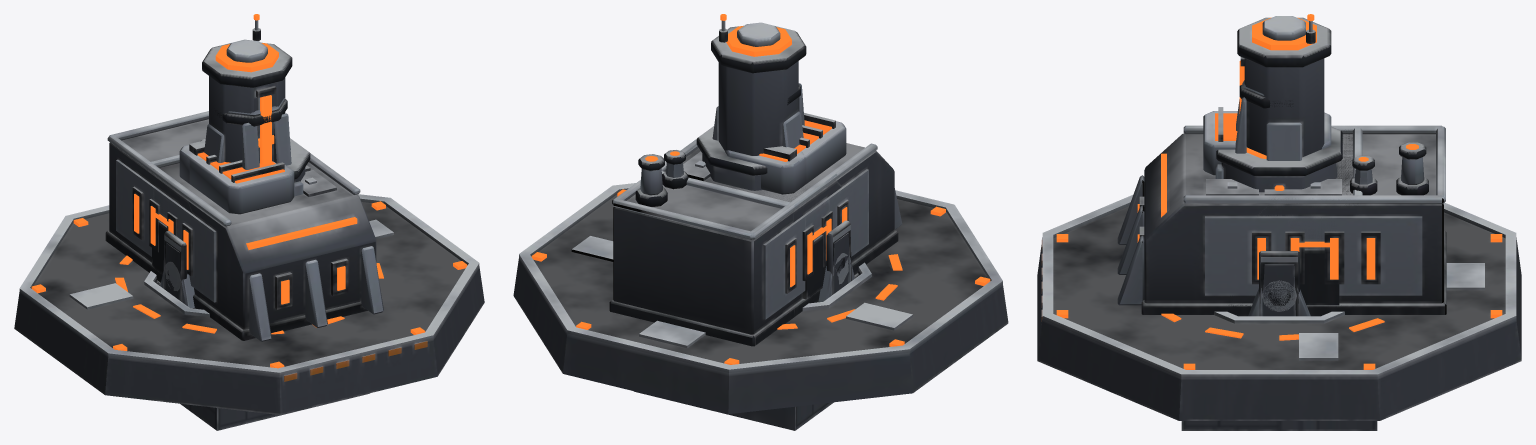
The model's file is facility-kit-v3.glb.
3 renders of one model, left to right at view 1: azimuth 30°, elevation 25°; view 2: azimuth 150°, elevation 25°; view 3: azimuth 270°, elevation 25°, orthographic. The views are drawn at different scales.
Visible parts, largest first — view 1: fk_vesper_pad, fk_vesper_hall_l, fk_vesper_reactor, fk_vesper_hall_s, fk_vesper_wall, fk_vesper_apron, fk_vesper_tower, fk_vesper_exchanger_l; view 2: fk_vesper_pad, fk_vesper_hall_l, fk_vesper_reactor, fk_vesper_hall_s, fk_vesper_exchanger_l, fk_vesper_wall, fk_vesper_apron; view 3: fk_vesper_pad, fk_vesper_hall_l, fk_vesper_reactor, fk_vesper_hall_s, fk_vesper_exchanger_l, fk_vesper_wall, fk_vesper_apron, fk_vesper_pipe, fk_vesper_tower.
Boxes of the visible parts, bbox=[...] form: fk_vesper_pad: bbox=[14, 194, 484, 414]; fk_vesper_hall_l: bbox=[105, 111, 383, 341]; fk_vesper_reactor: bbox=[202, 14, 292, 169]; fk_vesper_hall_s: bbox=[145, 140, 315, 309]; fk_vesper_wall: bbox=[160, 231, 195, 308]; fk_vesper_apron: bbox=[180, 393, 369, 430]; fk_vesper_tower: bbox=[213, 98, 287, 147]; fk_vesper_exchanger_l: bbox=[200, 138, 310, 196]; fk_vesper_pad: bbox=[513, 183, 1008, 414]; fk_vesper_hall_l: bbox=[609, 113, 902, 346]; fk_vesper_reactor: bbox=[711, 14, 806, 155]; fk_vesper_hall_s: bbox=[661, 139, 858, 316]; fk_vesper_exchanger_l: bbox=[696, 126, 767, 190]; fk_vesper_wall: bbox=[818, 220, 854, 302]; fk_vesper_apron: bbox=[634, 391, 833, 430]; fk_vesper_pad: bbox=[1037, 194, 1521, 420]; fk_vesper_hall_l: bbox=[1117, 107, 1446, 315]; fk_vesper_reactor: bbox=[1235, 14, 1331, 160]; fk_vesper_hall_s: bbox=[1226, 112, 1362, 316]; fk_vesper_exchanger_l: bbox=[1215, 126, 1342, 192]; fk_vesper_wall: bbox=[1248, 251, 1310, 316]; fk_vesper_apron: bbox=[1181, 421, 1377, 430]; fk_vesper_pipe: bbox=[1262, 280, 1296, 311]; fk_vesper_tower: bbox=[1239, 80, 1293, 108].
Bounding box in the file's own units: 4.95 × 4.35 × 4.95.
2 materials, 1 textured.
